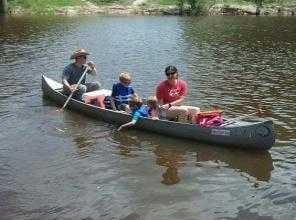kayak: (40, 70, 276, 153)
